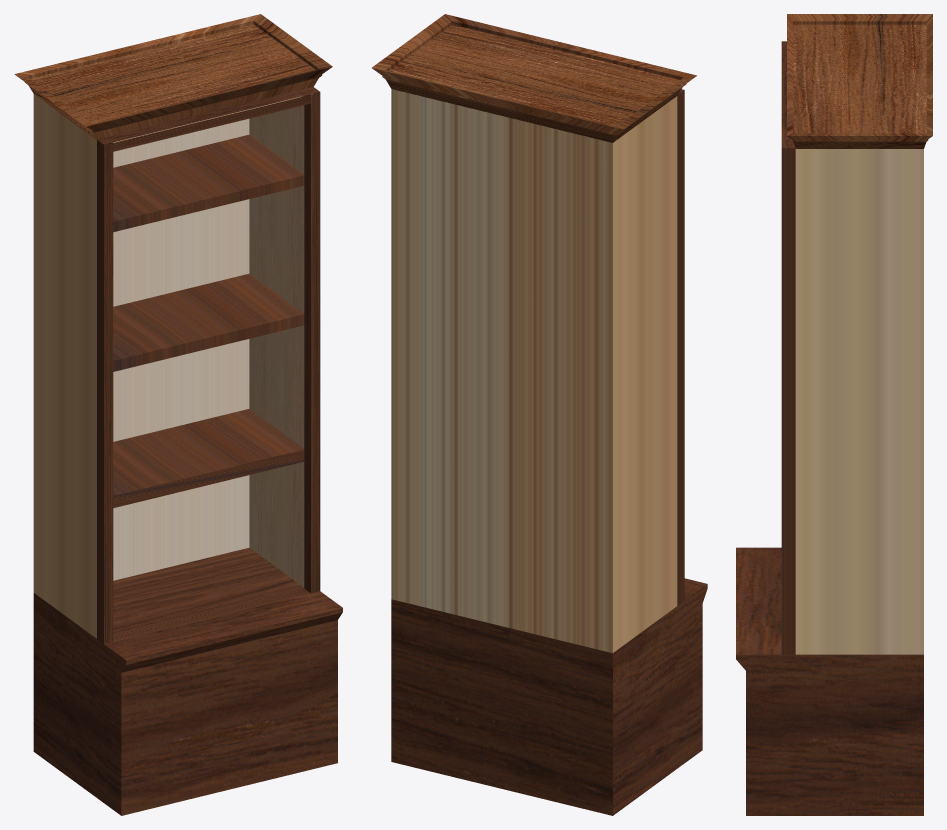
File: Armario texturizado.fbx
The picture shows the model from 3 angles, left to right: view 1: azimuth 30°, elevation 25°; view 2: azimuth 150°, elevation 25°; view 3: azimuth 270°, elevation 25°; orthographic projection. The views are drawn at different scales.
Parts seen in each view (by area): view 1: pCube1; view 2: pCube1; view 3: pCube1.
Boxes of the visible parts, x1,y1,x2,y2 form: pCube1: [14, 14, 342, 815]; pCube1: [372, 14, 707, 815]; pCube1: [736, 14, 932, 815].
Size of the model in its own units: 5.65 by 14.83 by 3.85.
8 materials, 7 textured.
